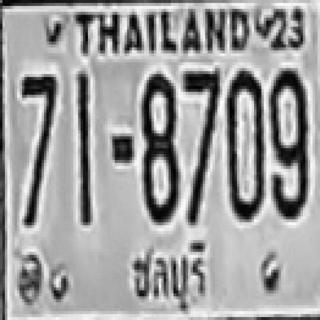N00: (225, 70, 261, 218), (269, 67, 305, 158)
N07: (19, 73, 56, 164), (181, 68, 220, 154), (19, 72, 56, 156)
N08: (139, 71, 178, 222)
N09: (269, 90, 305, 218)
P13: (125, 236, 219, 314)
